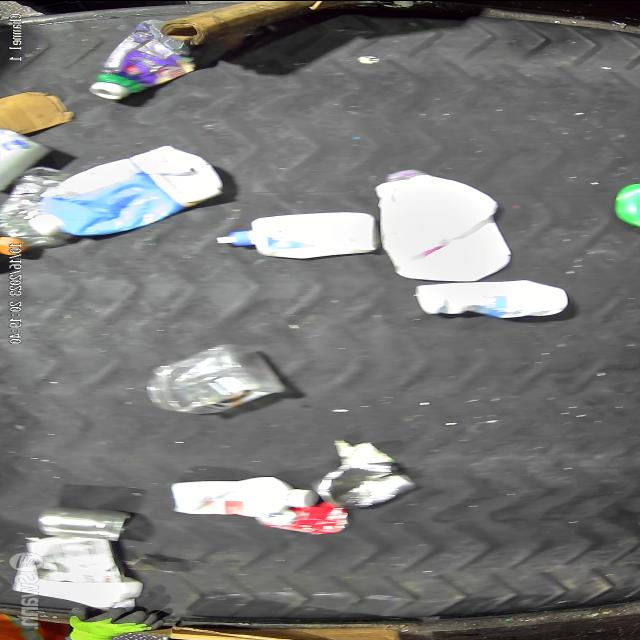can: (311, 446, 417, 510), (25, 507, 138, 540), (251, 506, 367, 534)
milk_jug: (364, 170, 506, 270)
plastic_bottle: (0, 166, 80, 249)
